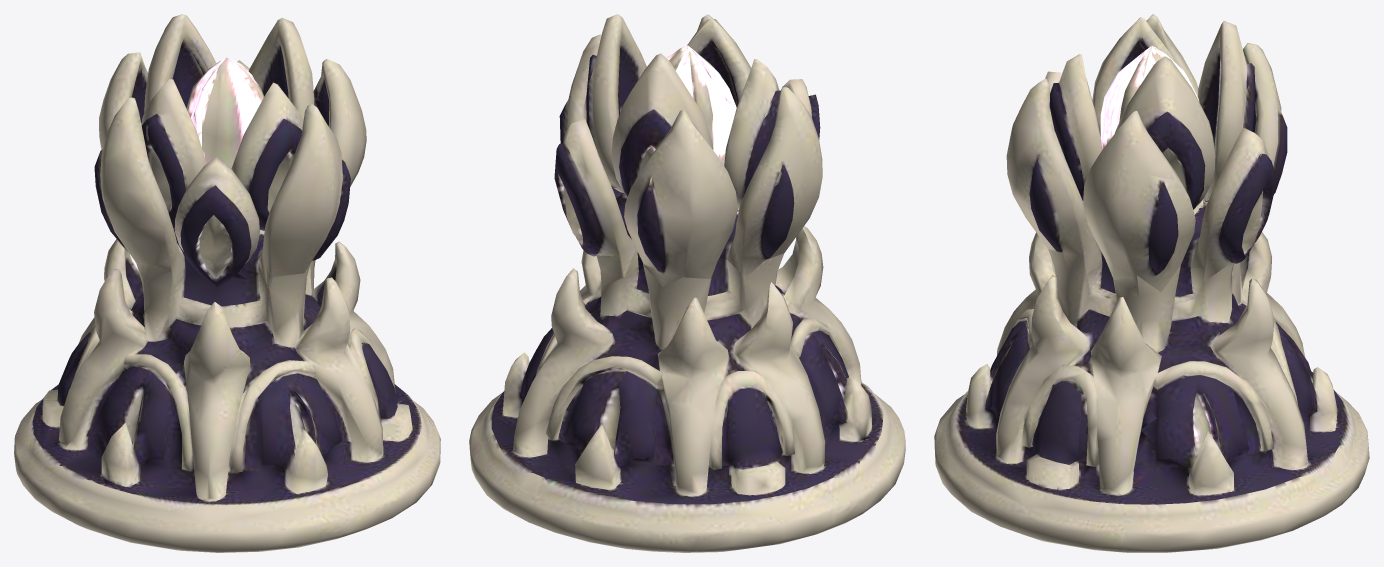
Rendered from zeynep-2-tier-3.glb.
3 renders of one model, left to right at view 1: azimuth 30°, elevation 25°; view 2: azimuth 150°, elevation 25°; view 3: azimuth 270°, elevation 25°, orthographic. The views are drawn at different scales.
Visible parts, largest first — view 1: fixed-platform, moving-assembly; view 2: fixed-platform, moving-assembly; view 3: fixed-platform, moving-assembly.
Part boxes in pixels (<box>): fixed-platform: <box>14,239,440,552</box>; moving-assembly: <box>94,14,366,288</box>; fixed-platform: <box>469,226,905,552</box>; moving-assembly: <box>554,14,822,287</box>; fixed-platform: <box>934,232,1369,552</box>; moving-assembly: <box>1006,14,1287,294</box>.
Size of the model in its own units: 0.9382 by 1.04 by 0.9355.
Materials: 1 (1 with a texture image).
